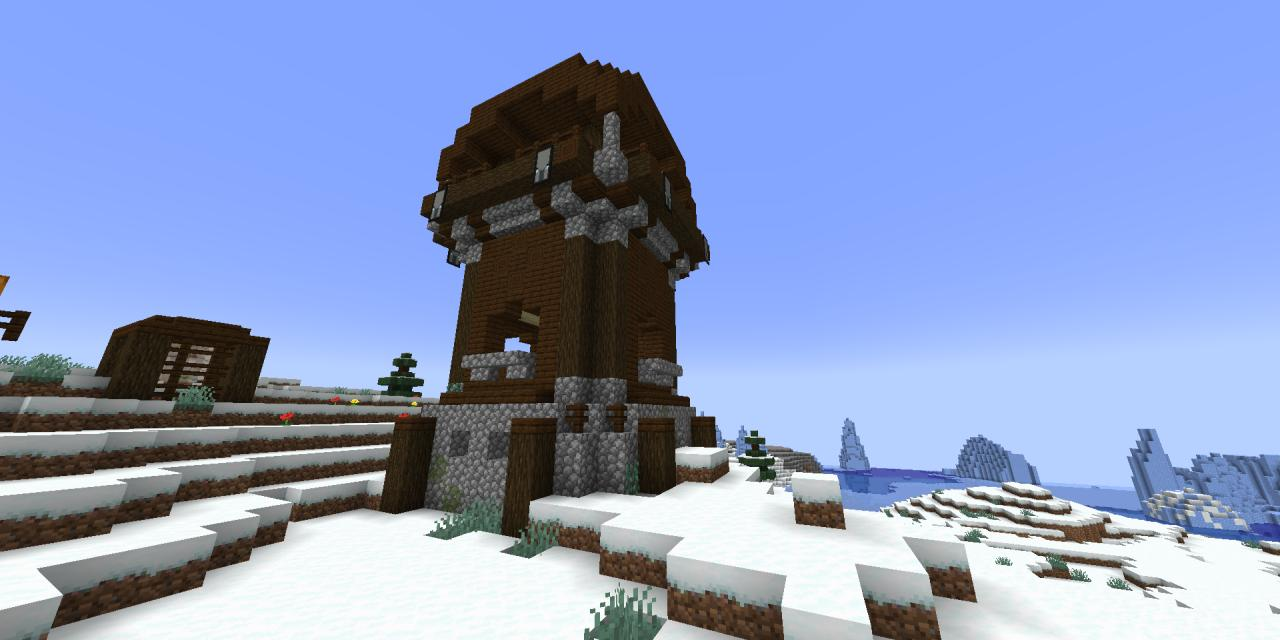pillager outpost: (347, 47, 730, 551)
